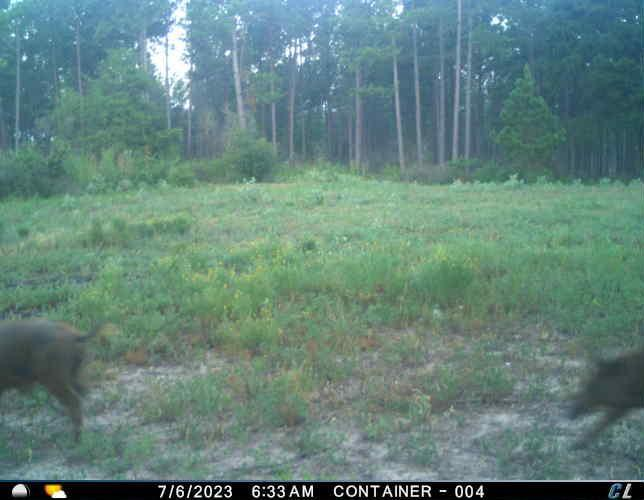Hog: (0, 309, 108, 446), (562, 341, 644, 453)
